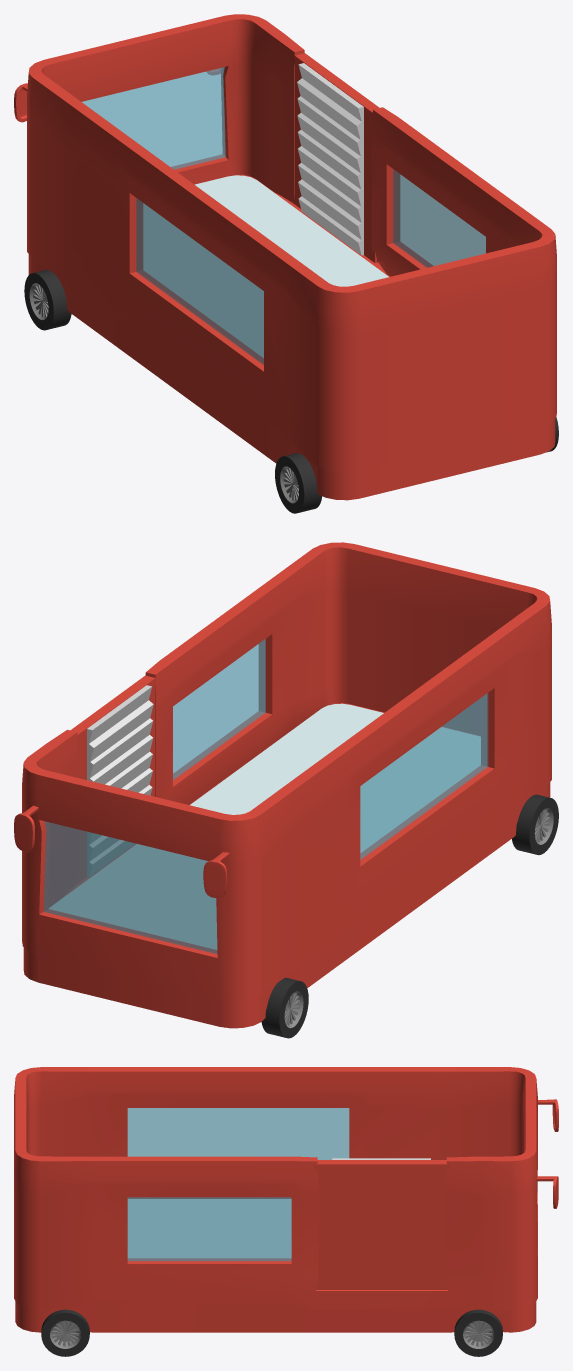
Rendered from Bus-shape key.fbx.
3 renders of one model, top to bottom at view 1: azimuth 30°, elevation 25°; view 2: azimuth 150°, elevation 25°; view 3: azimuth 270°, elevation 25°, orthographic. The views are drawn at different scales.
Visible parts, largest first — view 1: Bus.004, Bus.005, Door-stairs.001, Tyres.009, Tyres.006; view 2: Bus.004, Bus.005, Door-stairs.001, Tyres.009, Tyres.006, Side-view_mirrors.001; view 3: Bus.004, Door-stairs.001, Bus.005, Tyres.008, Tyres.007, Side-view_mirrors.001.
Part boxes in pixels (left/top/right/bottom): Bus.004: left=27, top=14, right=556, bottom=500; Bus.005: left=143, top=175, right=388, bottom=357; Door-stairs.001: left=293, top=53, right=379, bottom=262; Tyres.009: left=24, top=269, right=71, bottom=330; Tyres.006: left=275, top=453, right=322, bottom=513; Bus.004: left=22, top=542, right=551, bottom=1028; Bus.005: left=49, top=703, right=480, bottom=949; Door-stairs.001: left=71, top=675, right=155, bottom=884; Tyres.009: left=261, top=977, right=308, bottom=1038; Tyres.006: left=512, top=794, right=558, bottom=855; Side-view_mirrors.001: left=14, top=805, right=229, bottom=898; Bus.004: left=14, top=1067, right=537, bottom=1332; Door-stairs.001: left=314, top=1158, right=449, bottom=1289; Bus.005: left=128, top=1199, right=291, bottom=1257; Tyres.008: left=454, top=1309, right=502, bottom=1356; Tyres.007: left=41, top=1309, right=89, bottom=1356; Side-view_mirrors.001: left=536, top=1099, right=558, bottom=1208.
Size of the model in its own units: 226 by 198 by 507.
